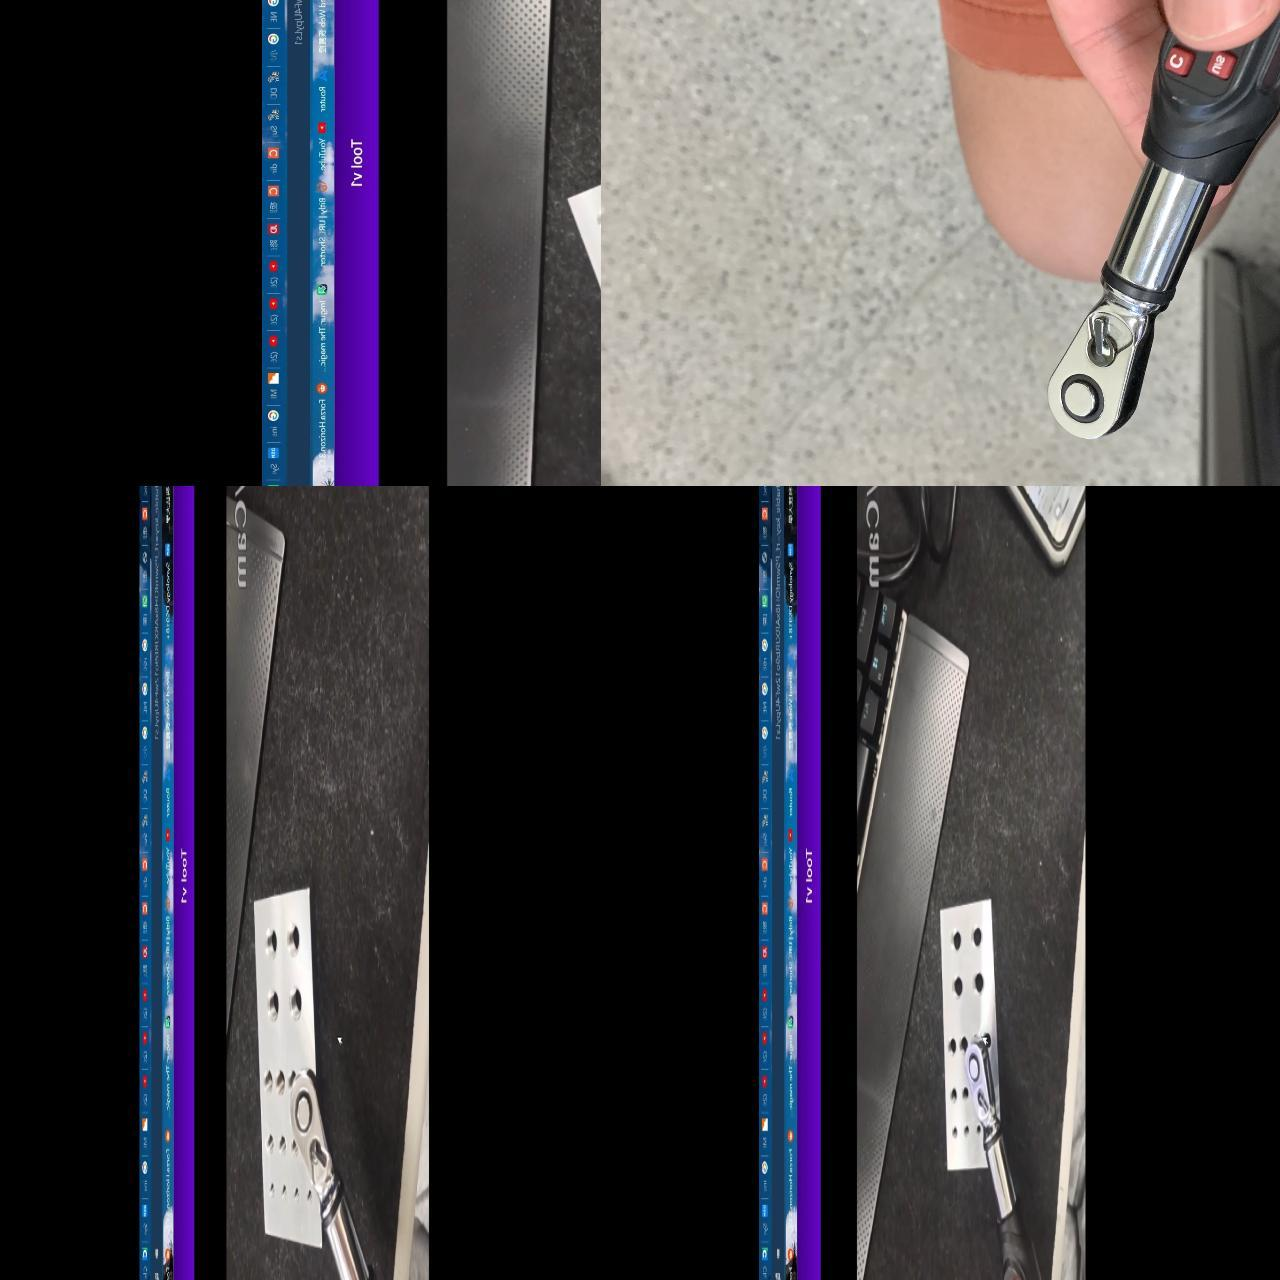Tool: (1043, 279, 1160, 442), (288, 1069, 336, 1210), (965, 1039, 996, 1133)
